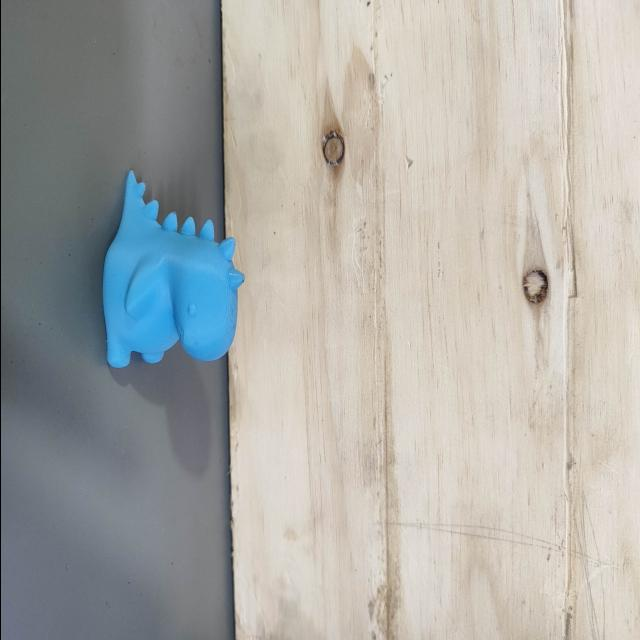DINO: (98, 180, 257, 373)
